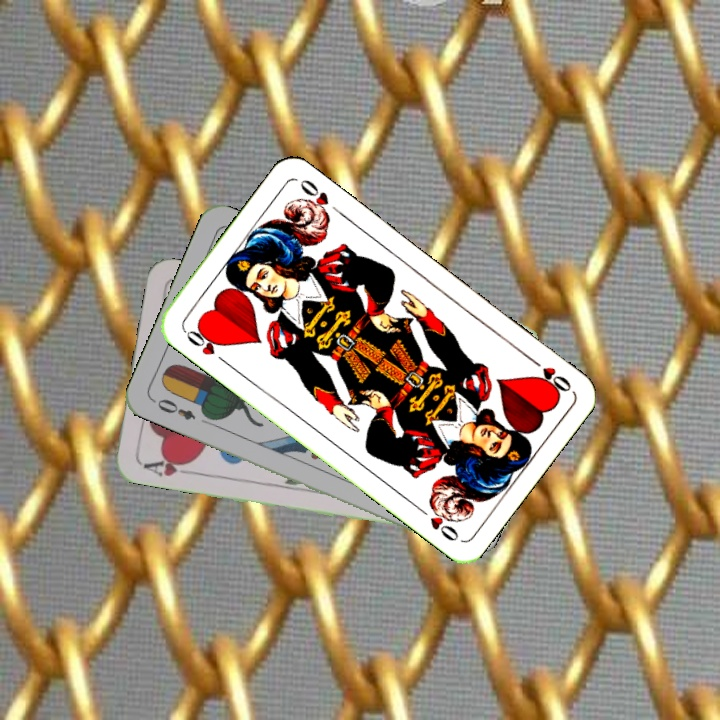EO: (148, 394, 198, 423)
HA: (139, 452, 197, 480)
HO: (180, 322, 230, 367), (524, 352, 574, 397)
